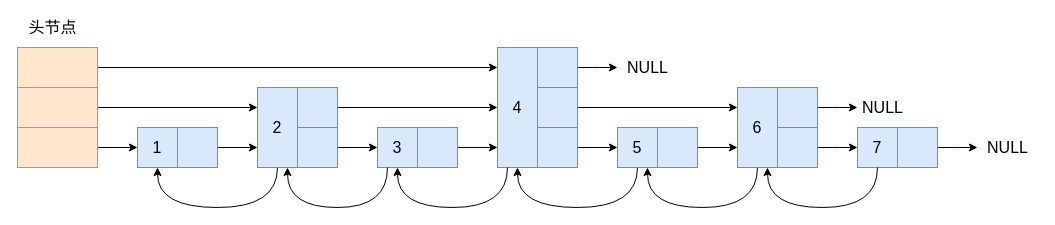
The diagram is 1055 pixels wide and 225 high, and some of its shapes have lost their labels. The centre of each missing label's shape, as x and y in pixels:
"L0" belongs at (x=57, y=147).
"L1" belongs at (x=57, y=107).
"L2" belongs at (x=57, y=67).
